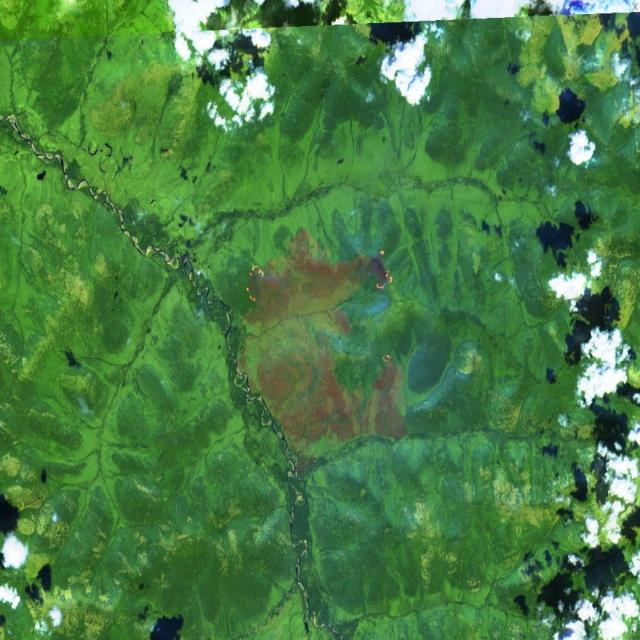fire: (366, 237, 398, 298), (240, 255, 272, 306), (380, 348, 399, 370)
